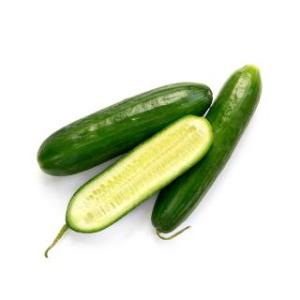cucumber: (150, 64, 262, 234), (36, 80, 212, 180)
